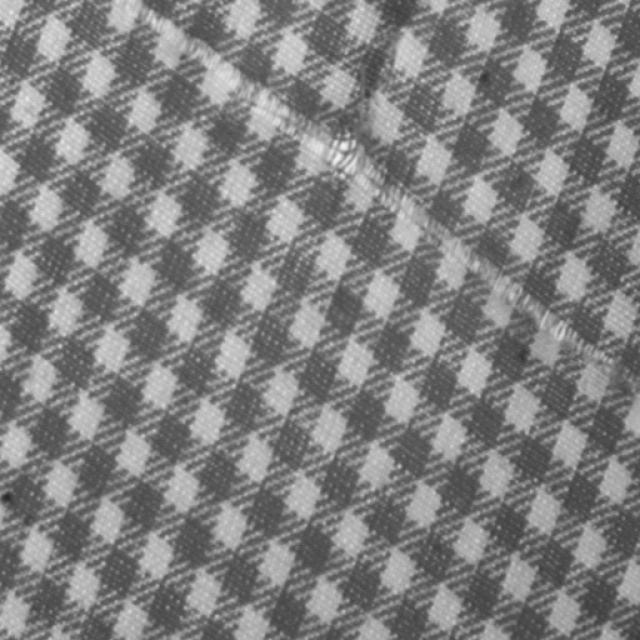Thread-Defect: (120, 7, 635, 393)
